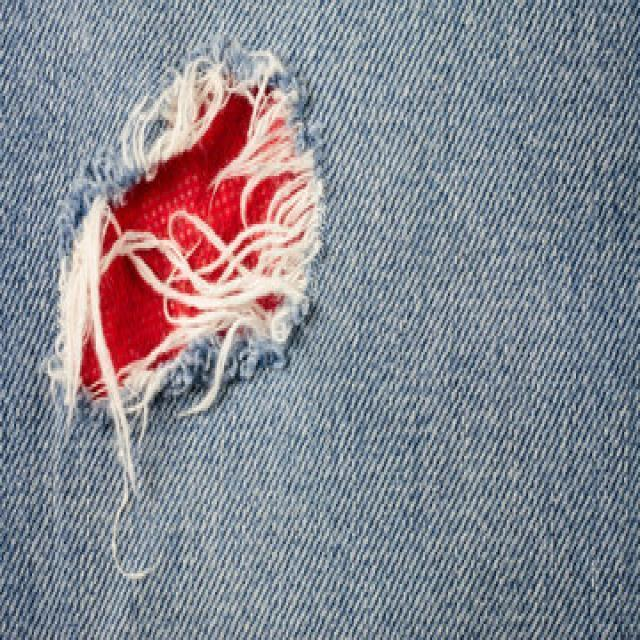Hole: (49, 44, 323, 486)
